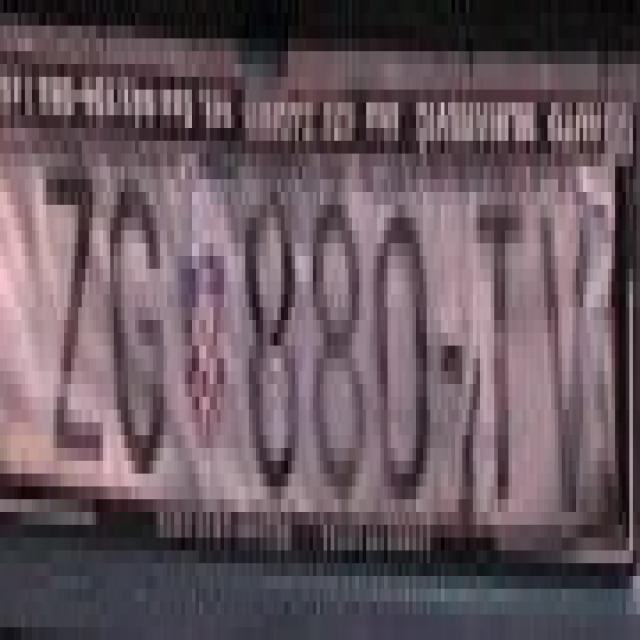0: (373, 198, 427, 506)
8: (247, 198, 297, 493), (313, 205, 363, 499)
G: (108, 173, 162, 480)
T: (469, 192, 526, 512)
V: (539, 185, 599, 506)
Z: (43, 160, 103, 454)
